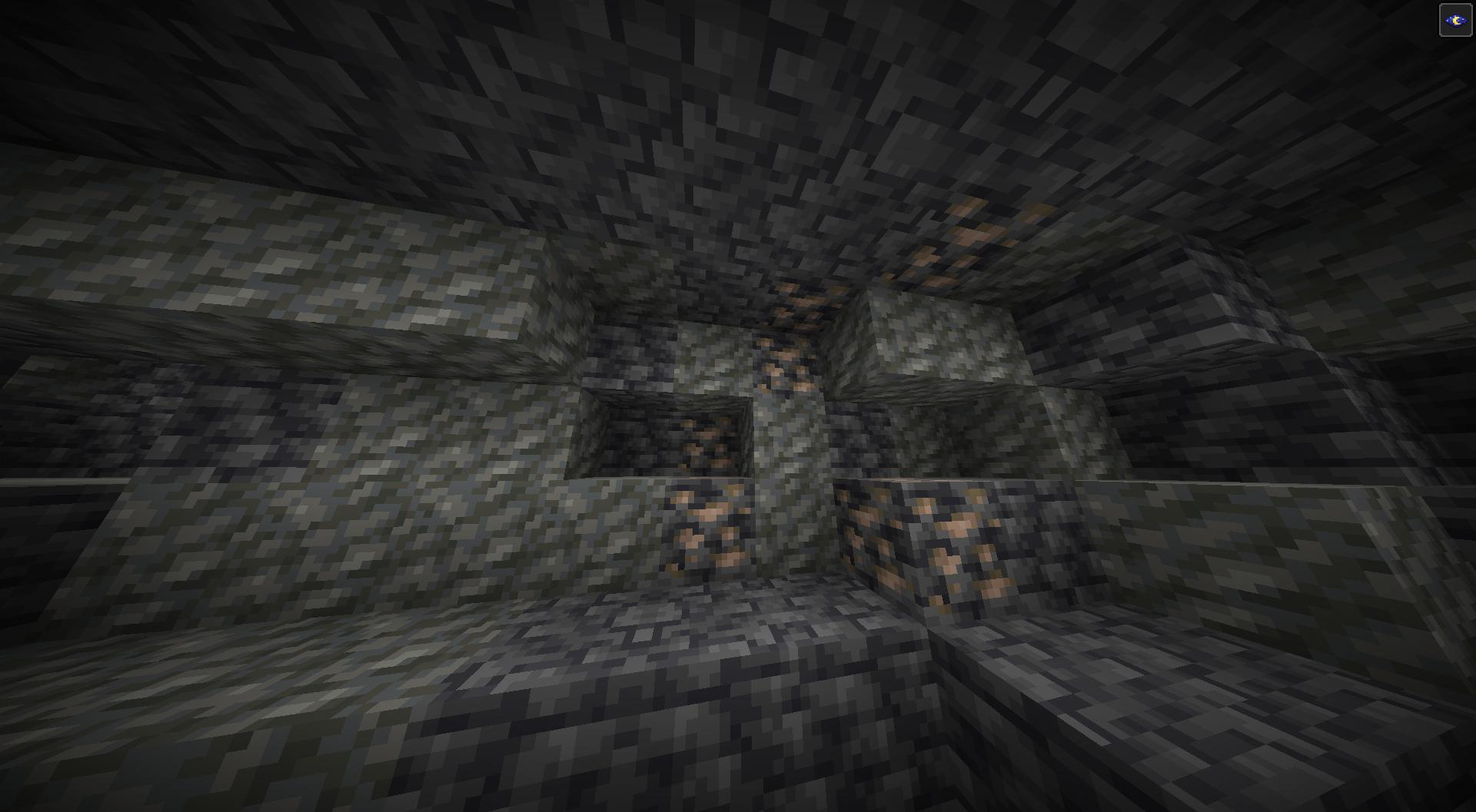iron ore: (908, 484, 1025, 615), (826, 480, 921, 604), (901, 196, 1024, 291), (660, 483, 758, 579), (670, 409, 748, 474), (750, 330, 825, 394), (760, 278, 847, 330)
